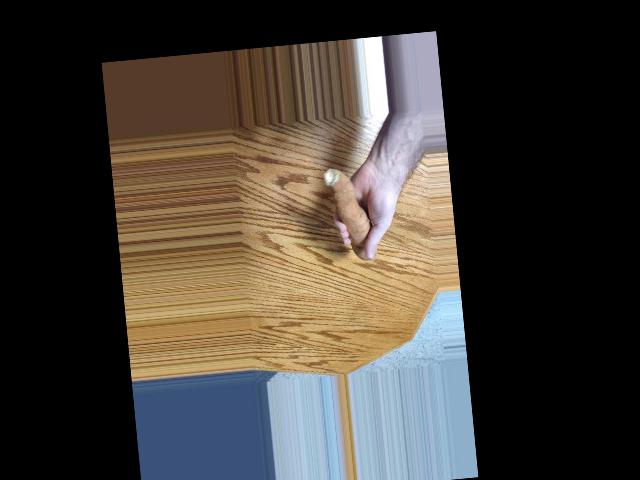sweet_potato: (323, 159, 374, 268)
